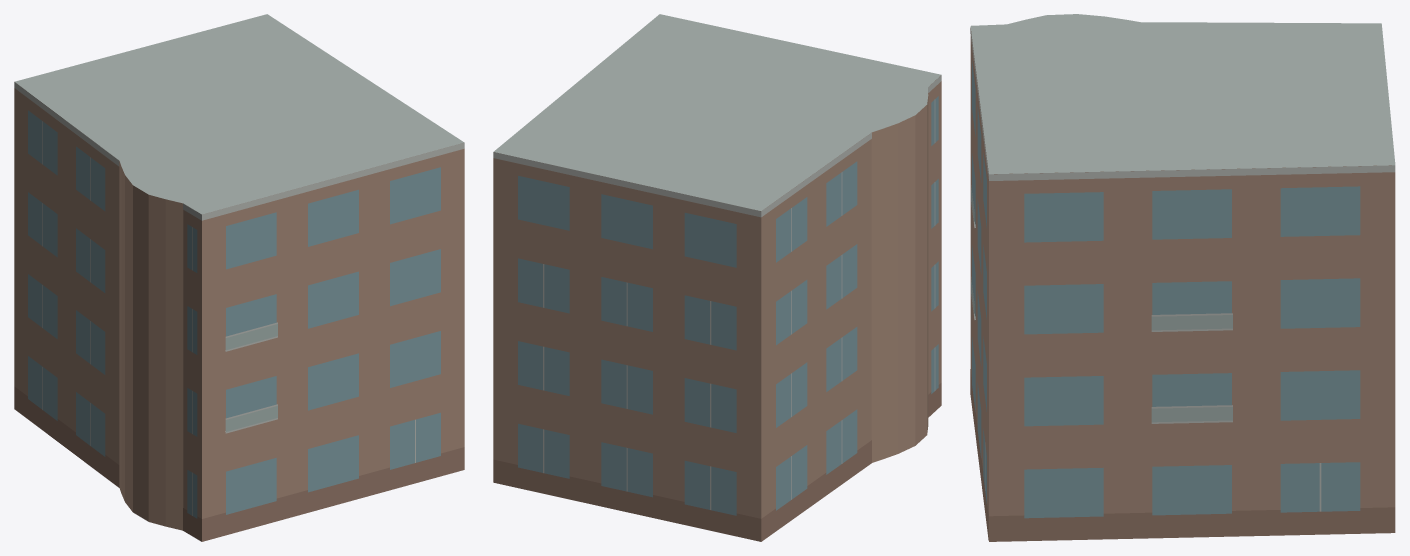
Rendered from survey-upis-32628637.glb.
The picture shows the model from 3 angles, left to right: view 1: azimuth 30°, elevation 25°; view 2: azimuth 150°, elevation 25°; view 3: azimuth 270°, elevation 25°; orthographic projection. The views are drawn at different scales.
Visible parts, largest first — view 1: survey-upis-32628637.tmp; view 2: survey-upis-32628637.tmp; view 3: survey-upis-32628637.tmp.
Part boxes in pixels (x1,y1,x2,y2): survey-upis-32628637.tmp: [14, 14, 464, 541]; survey-upis-32628637.tmp: [493, 14, 941, 541]; survey-upis-32628637.tmp: [970, 14, 1395, 541].
Bounding box in the file's own units: 12.16 × 13 × 13.63.
